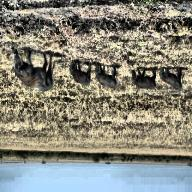boar: (11, 47, 55, 92), (158, 66, 184, 90), (95, 62, 118, 89), (130, 67, 157, 89), (69, 60, 91, 86)
